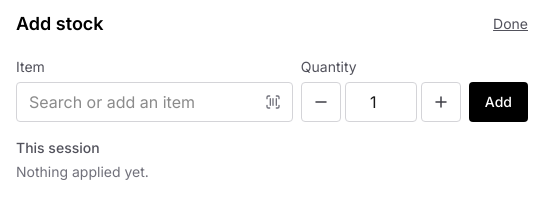
Test: BatchEntry › steps the quantity with +/- and never below zero
Click the button named "Increase quantity": point(441, 102) [421,82,461,122]
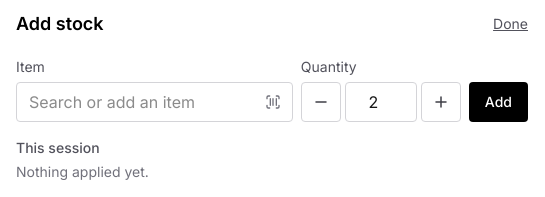
Check: the number field labelled "Quantity" holds "2", box [345,82,417,122]
Click the button named "Decrease quantity": point(321, 102) [301,82,341,122]
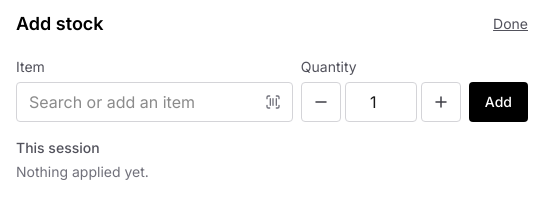
Click the button named "Decrease quantity": point(321, 102) [301,82,341,122]
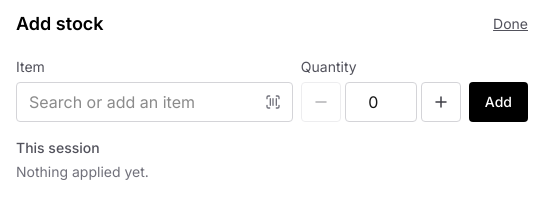
Check: the number field labelled "Quantity" holds "0", box [345,82,417,122]
